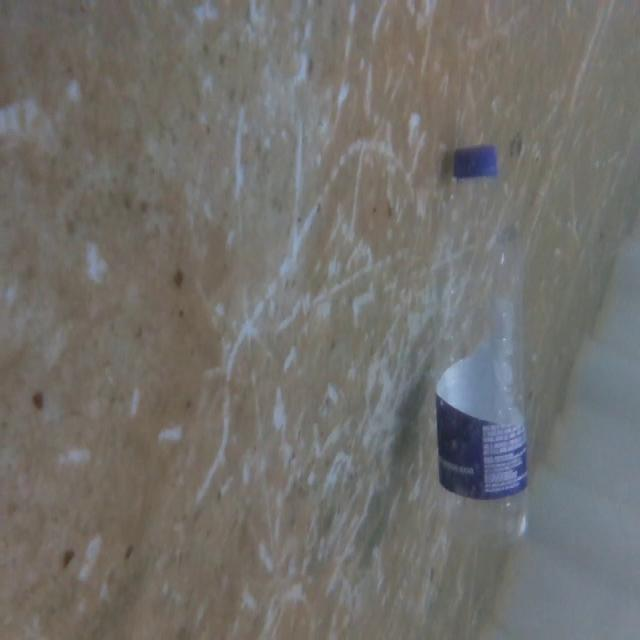plastic bottle: (429, 138, 543, 556)
